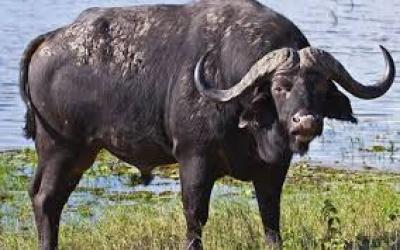buffalo: (19, 0, 395, 249)
